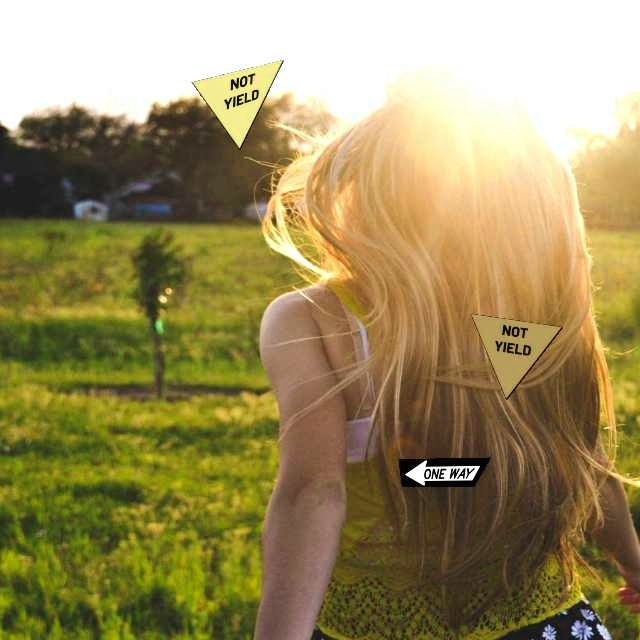NOT_YIELD: (191, 59, 284, 150), (470, 313, 563, 400)
ONE_WAY_ left: (398, 457, 491, 487)
